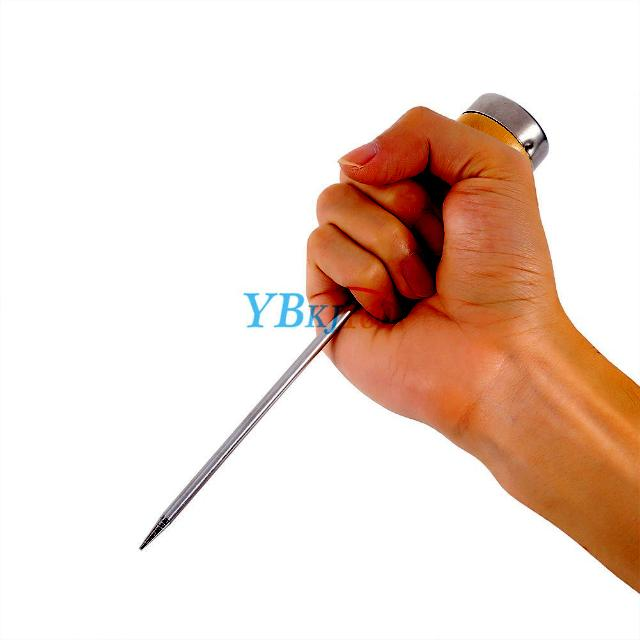ice pick: (140, 95, 550, 552)
